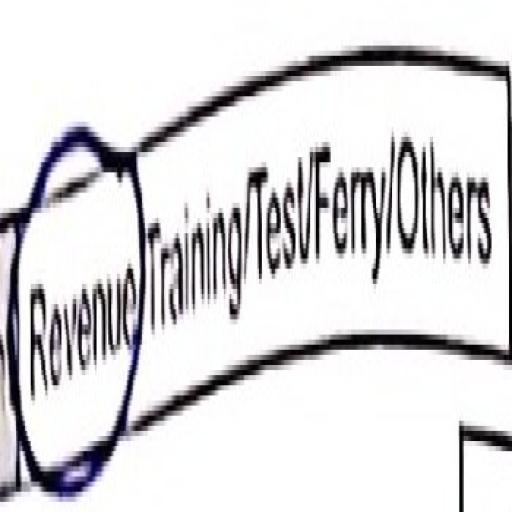check: (2, 63, 147, 512)
